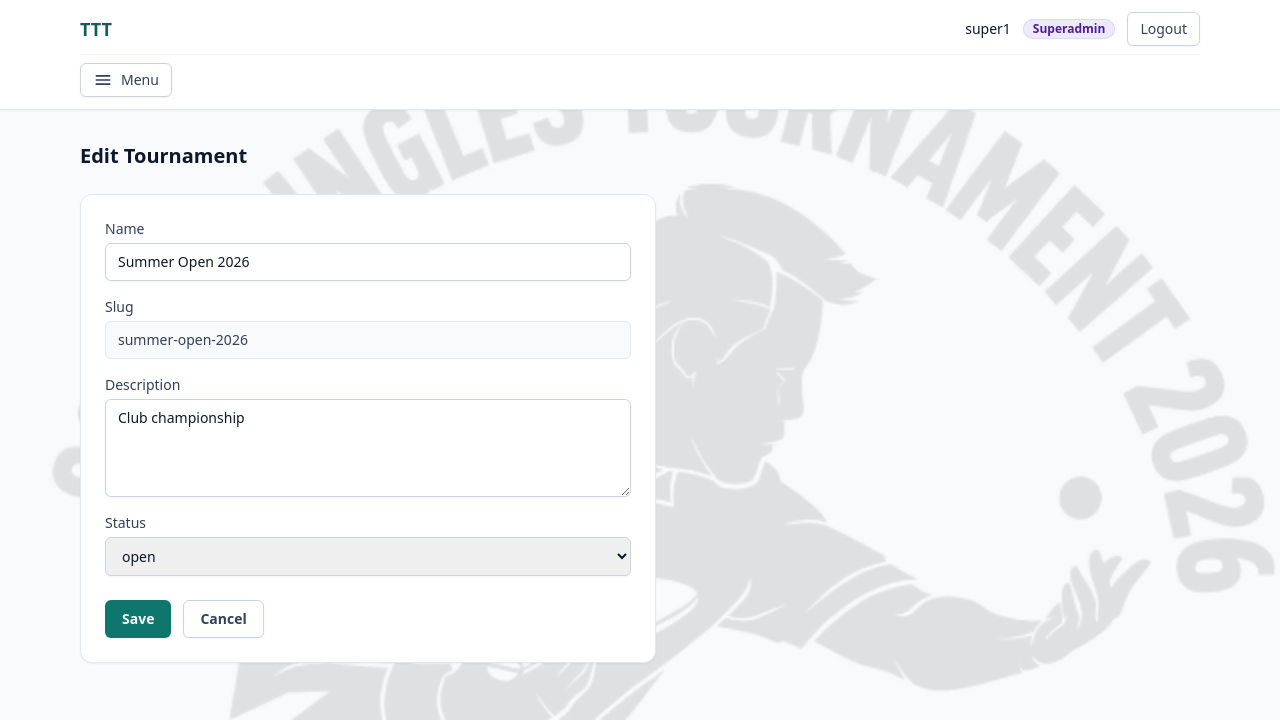
Test: Edit tournament › loads an existing tournament and saves changes
Expected: the heading "Edit Tournament" is shown, [80,142,247,170]
Expected: the text "summer-open-2026" is shown, [105,321,631,359]
Replace the text in the field labelled "Name" with "Summer Open 2026 Updated" at x=368, y=262, box [105,243,631,281]
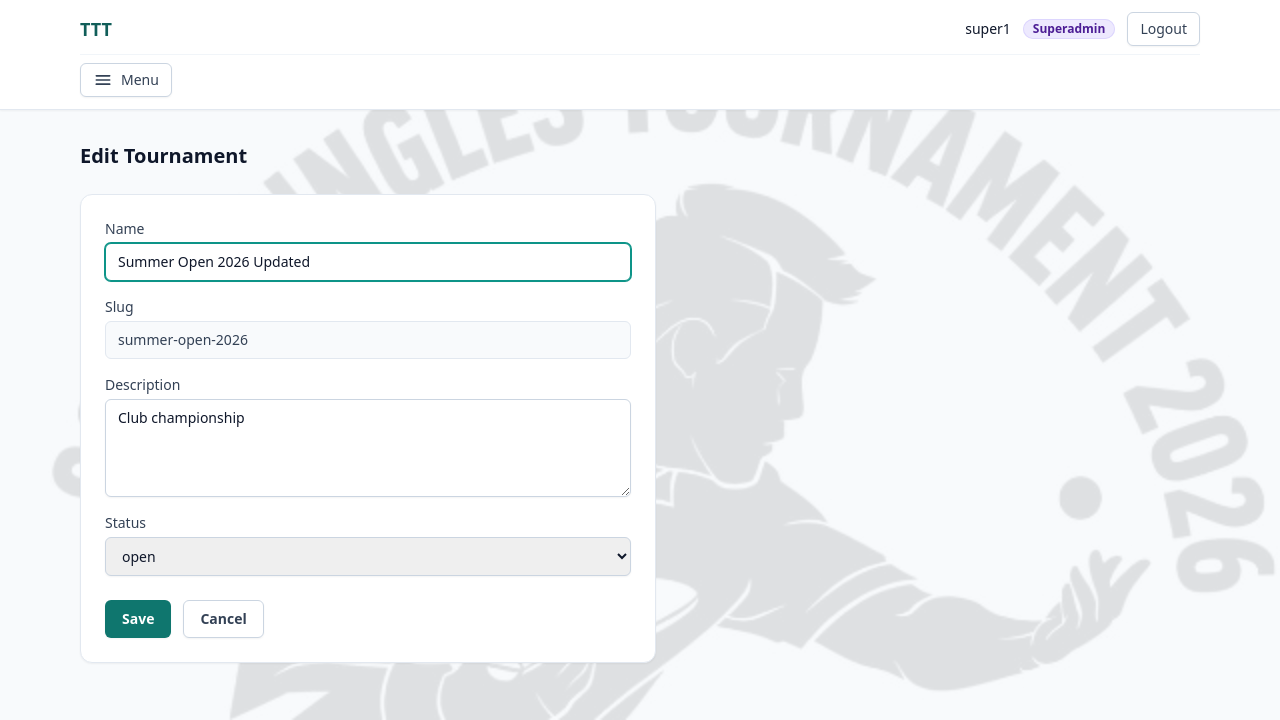
Select "closed" in the dropdown labelled "Status" at x=368, y=556, box [105,537,631,576]
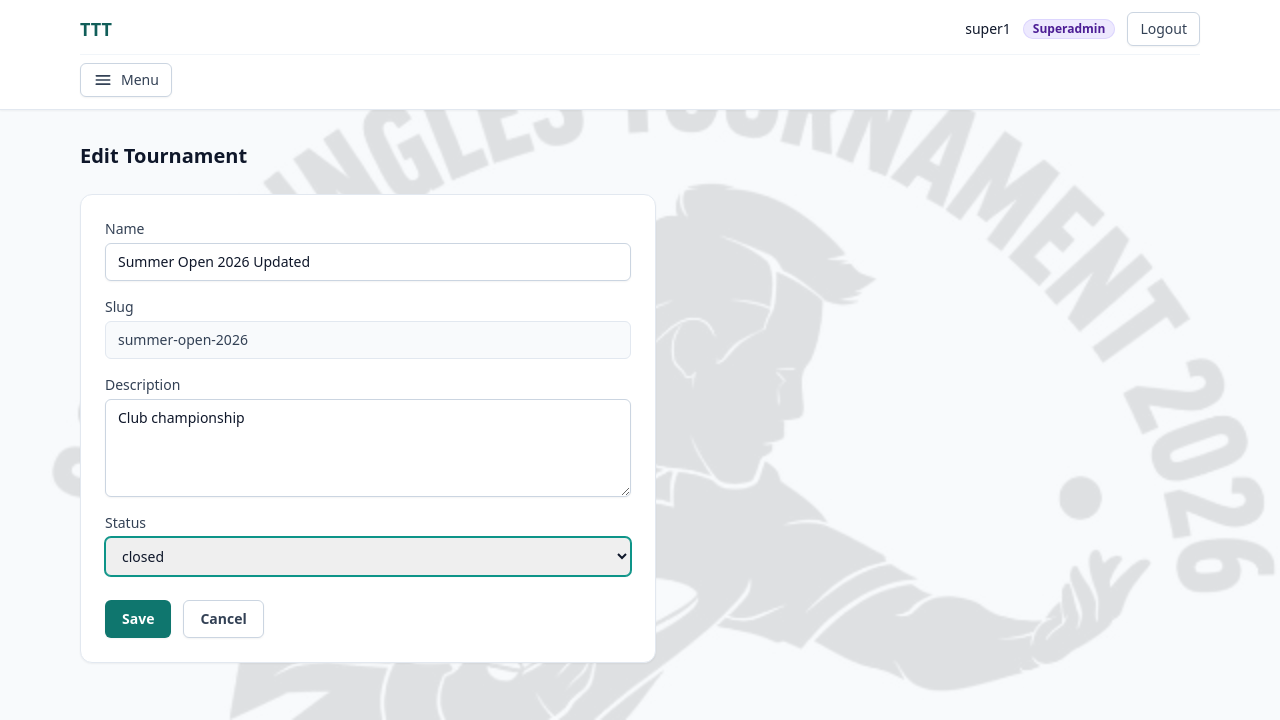
Click the button "Save" at x=138, y=619, box [105,600,171,638]
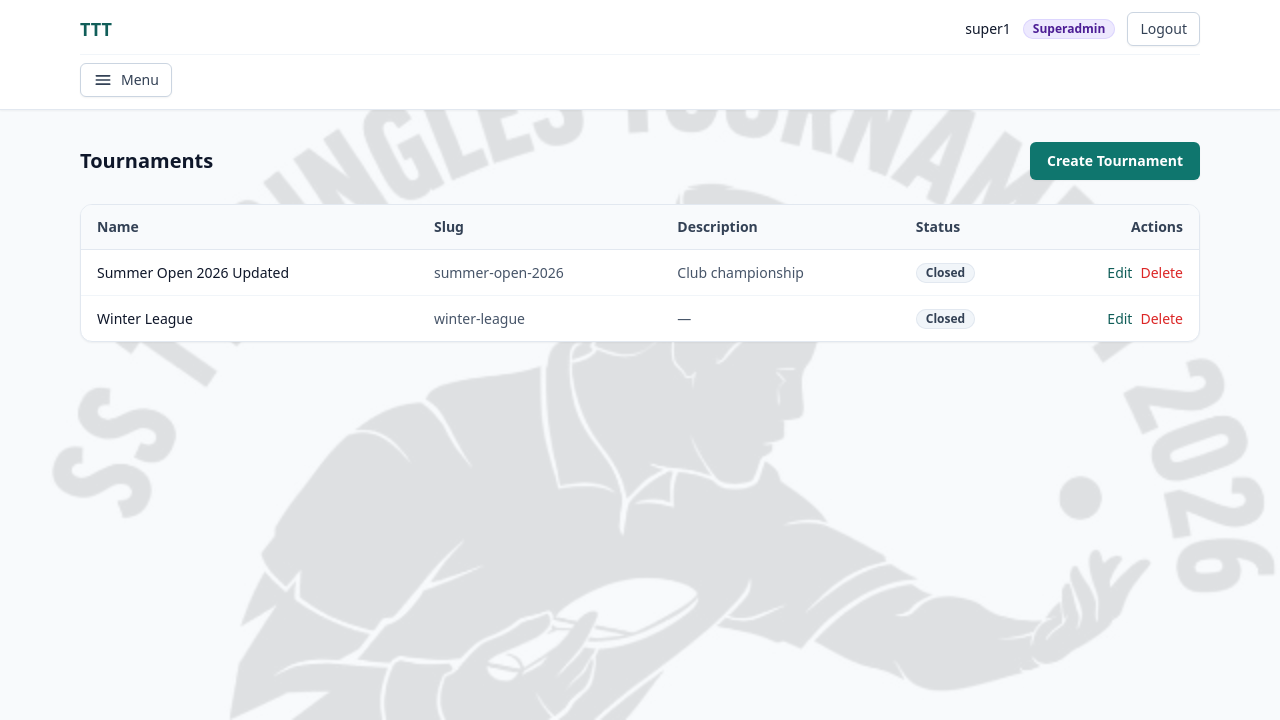
Now the heading "Tournaments" is shown, box [80,147,213,175]
Now the text "Summer Open 2026 Updated" is shown, box [81,250,418,296]
Now the text "closed" in the row of "Summer Open 2026 Updated" is shown, box [926,264,965,281]
